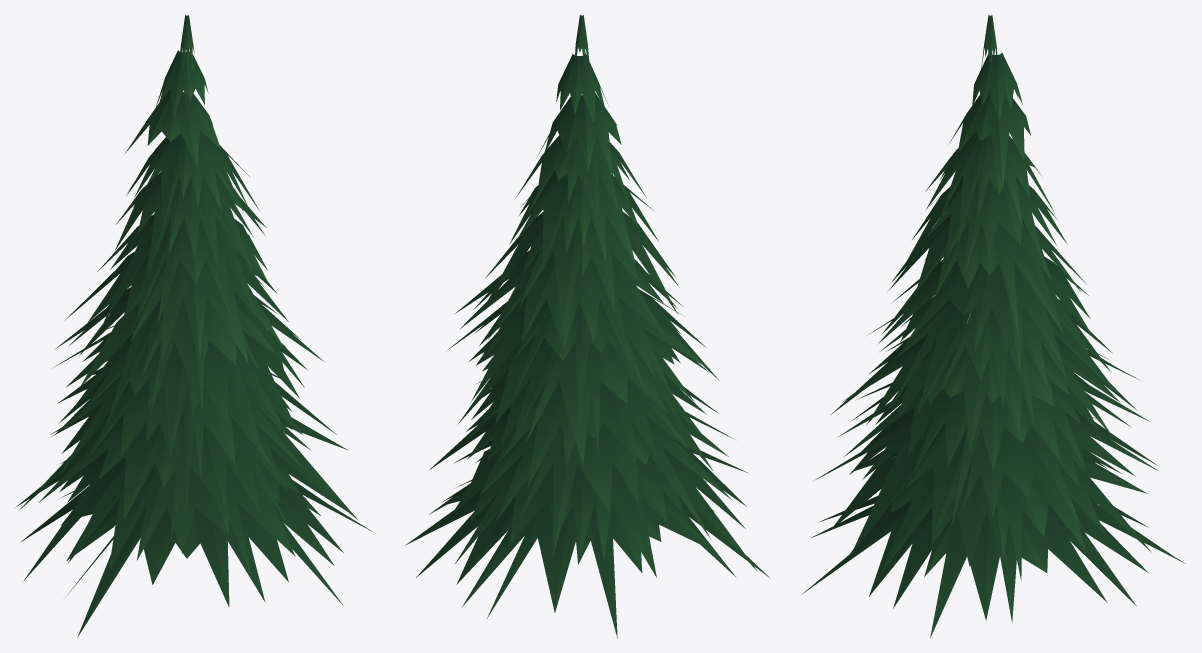
File: pine_23.glb
3 views of the same model, side by side, from view 1: azimuth 30°, elevation 25°; view 2: azimuth 150°, elevation 25°; view 3: azimuth 270°, elevation 25° (orthographic).
Visible parts, largest first — view 1: pine_23; view 2: pine_23; view 3: pine_23.
Part boxes in pixels (x1=…): pine_23: x1=15, y1=15, x2=372, y2=637; pine_23: x1=405, y1=15, x2=770, y2=638; pine_23: x1=802, y1=15, x2=1185, y2=637.
Size of the model in its own units: 8.73 by 14.1 by 8.73.
1 material, 1 textured.
